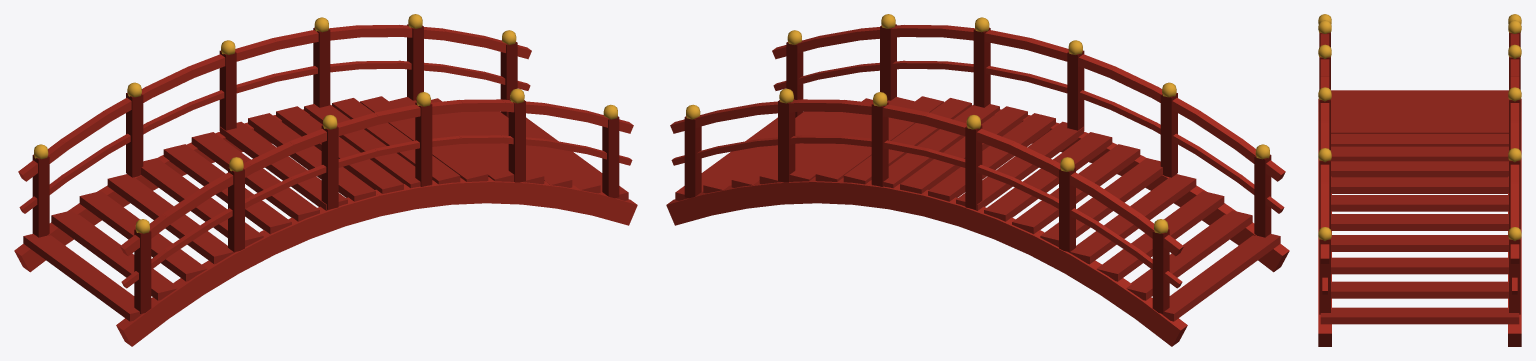
File: bridge_wooden_planks.glb
3 views of the same model, side by side, from view 1: azimuth 30°, elevation 25°; view 2: azimuth 150°, elevation 25°; view 3: azimuth 270°, elevation 25° (orthographic). The views are drawn at different scales.
Visible parts, largest first — view 1: WoodenPlankBridges; view 2: WoodenPlankBridges; view 3: WoodenPlankBridges.
Boxes of the visible parts, left/top/right/bottom form: WoodenPlankBridges: left=14, top=14, right=637, bottom=346; WoodenPlankBridges: left=666, top=14, right=1289, bottom=346; WoodenPlankBridges: left=1318, top=14, right=1521, bottom=346.
Size of the model in its own units: 5.72 by 1.91 by 2.1.
